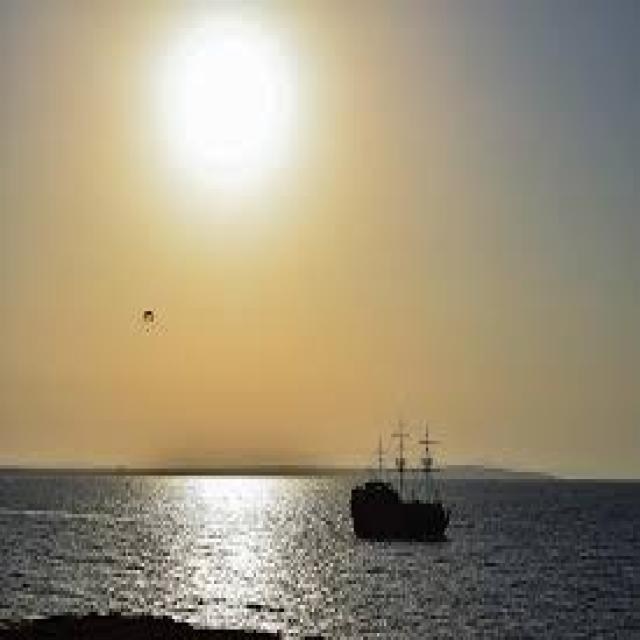fishing boat: (346, 419, 450, 543)
